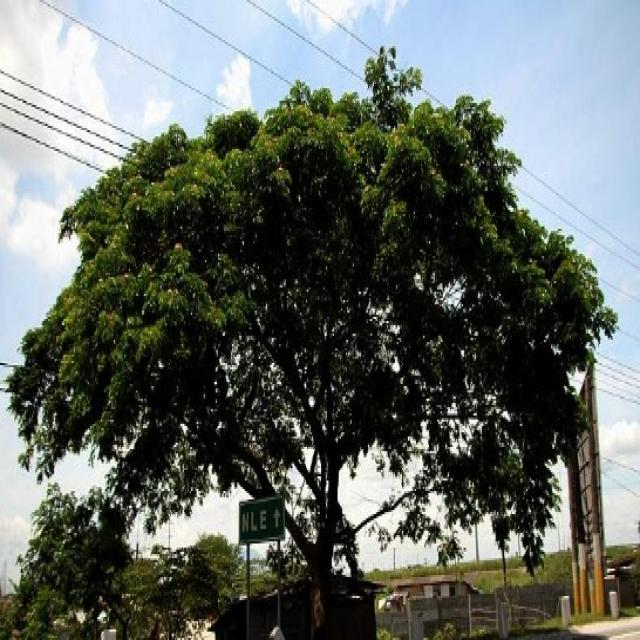Acacia: (6, 41, 631, 598)
